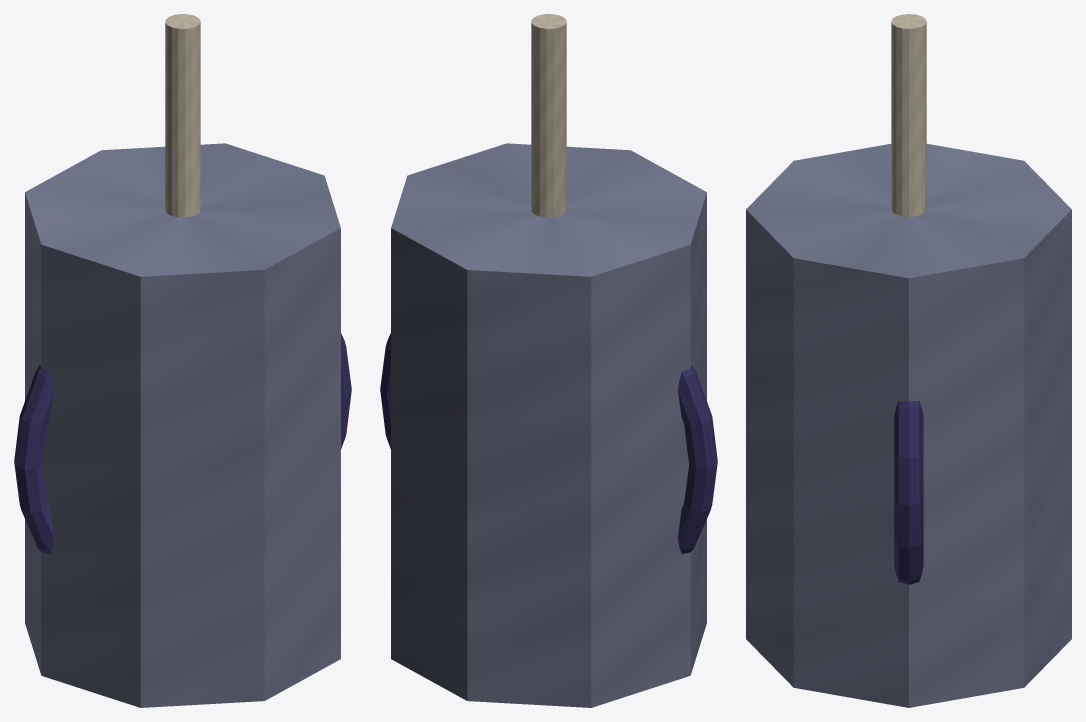
Rendered from warden-lantern.glb.
The picture shows the model from 3 angles, left to right: view 1: azimuth 30°, elevation 25°; view 2: azimuth 150°, elevation 25°; view 3: azimuth 270°, elevation 25°; orthographic projection.
Parts seen in each view (by area): view 1: wardenlantern-body, wardenlantern-handle, wardenlantern-cage-ring; view 2: wardenlantern-body, wardenlantern-handle, wardenlantern-cage-ring; view 3: wardenlantern-body, wardenlantern-handle, wardenlantern-cage-ring.
Boxes of the visible parts, left/top/right/bottom form: wardenlantern-body: left=25, top=143, right=340, bottom=707; wardenlantern-handle: left=165, top=14, right=200, bottom=217; wardenlantern-cage-ring: left=14, top=333, right=351, bottom=553; wardenlantern-body: left=391, top=143, right=706, bottom=707; wardenlantern-handle: left=531, top=14, right=566, bottom=217; wardenlantern-cage-ring: left=380, top=333, right=717, bottom=553; wardenlantern-body: left=746, top=144, right=1071, bottom=707; wardenlantern-handle: left=891, top=14, right=926, bottom=216; wardenlantern-cage-ring: left=894, top=401, right=923, bottom=584.
Bounding box in the file's own units: 0.26 × 0.46 × 0.22.
Materials: 4 (4 with a texture image).
